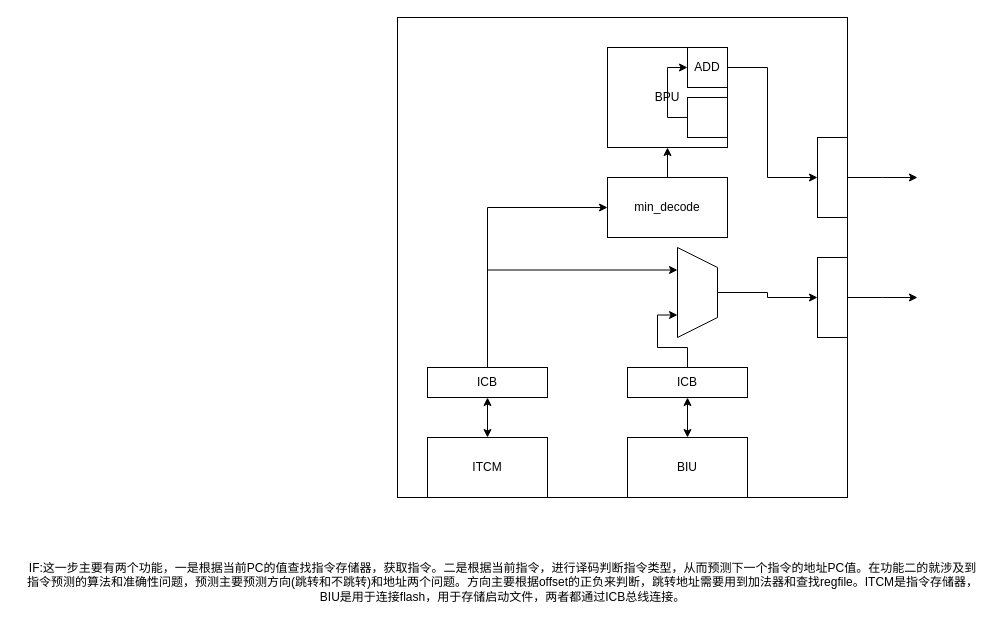
Some shapes in this 1004 by 625 pixel diagram are drawn without their labels. The centre of each missing label's shape, as x and y in pixels:
"IR" belongs at pixel 832 297.
"PC" belongs at pixel 832 177.
"regfile" belongs at pixel 707 117.
